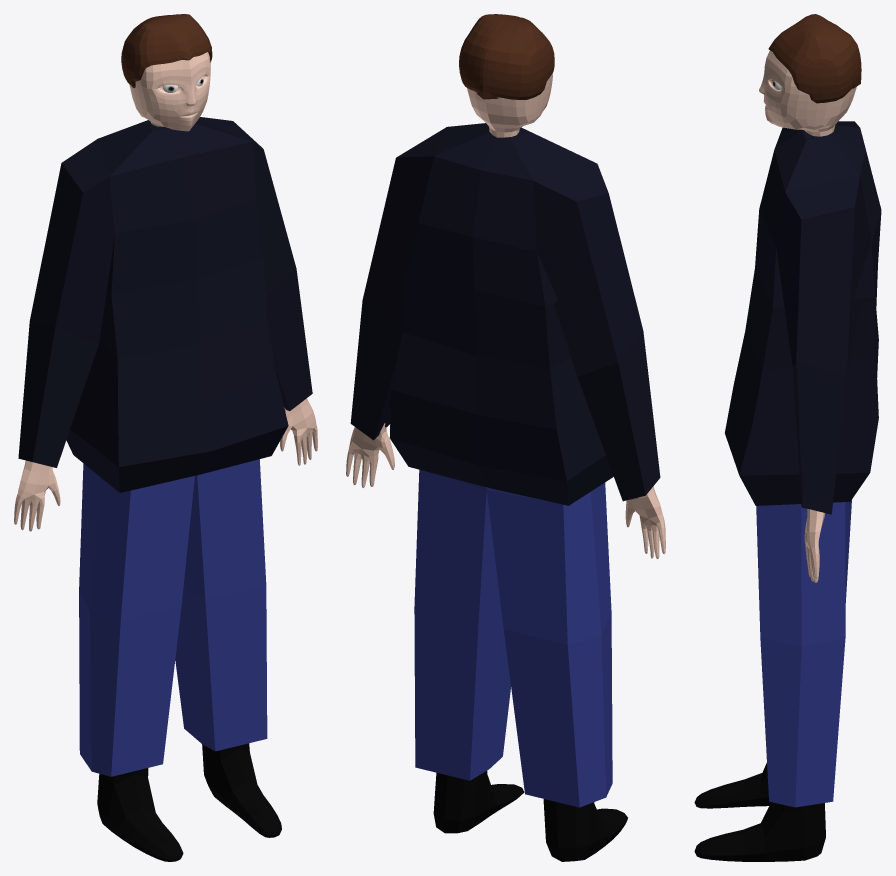
Rendered from male1.fbx.
The picture shows the model from 3 angles, left to right: view 1: azimuth 30°, elevation 25°; view 2: azimuth 150°, elevation 25°; view 3: azimuth 270°, elevation 25°; orthographic projection. The views are drawn at different scales.
Visible parts, largest first — view 1: sweater_male, pants_male, body, shorter_base; view 2: sweater_male, pants_male, body, shorter_base; view 3: sweater_male, pants_male, body, shorter_base.
Part boxes in pixels (x1,y1,x2,y2): sweater_male: (18, 117, 312, 492); pants_male: (79, 459, 267, 776); body: (14, 52, 317, 861); shorter_base: (121, 14, 212, 88); sweater_male: (350, 123, 660, 505); pants_male: (414, 469, 612, 807); body: (346, 73, 665, 861); shorter_base: (459, 14, 554, 99); sweater_male: (725, 121, 881, 514); pants_male: (756, 500, 851, 807); body: (694, 50, 856, 861); shorter_base: (768, 14, 861, 103).
Size of the model in its own units: 320 by 796 by 167.
Materials: 4 (1 with a texture image).
